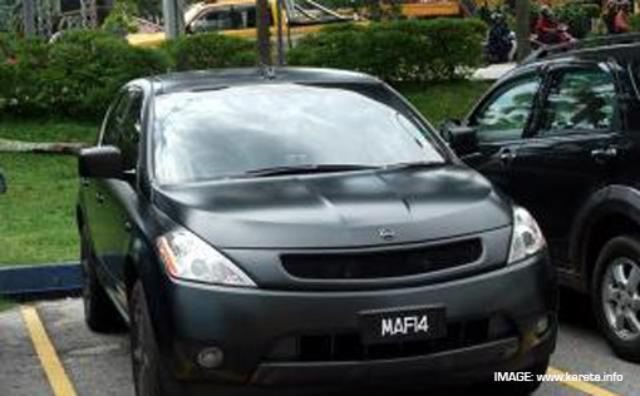License_Plate: (358, 306, 451, 349)
car: (76, 62, 564, 396)
